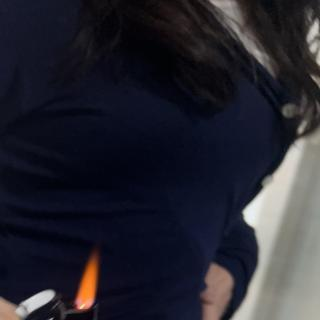fire: (72, 258, 100, 306)
